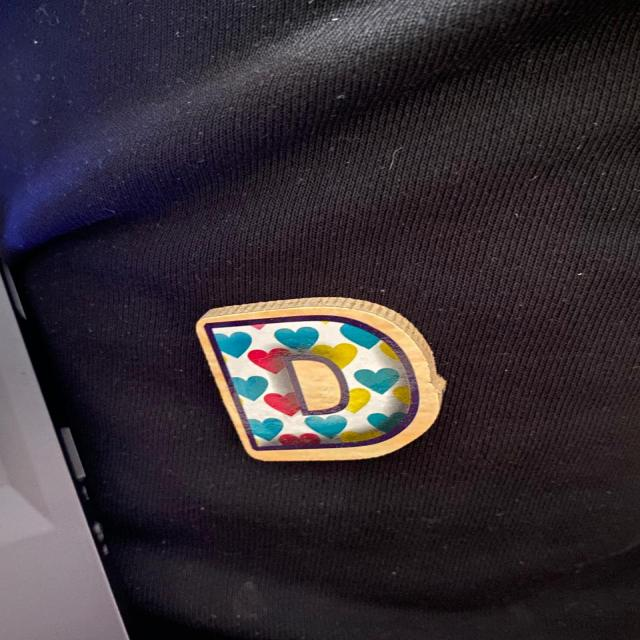D: (197, 298, 445, 462)
